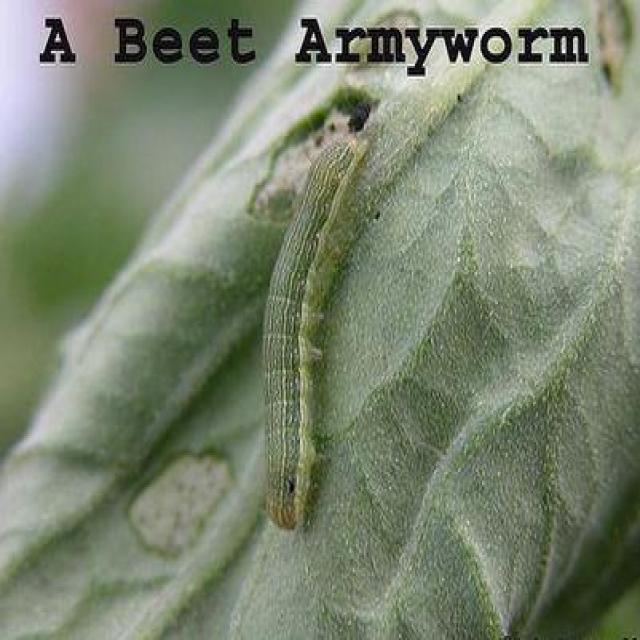BeetArmyWorm-Larva-: (248, 132, 372, 537)
